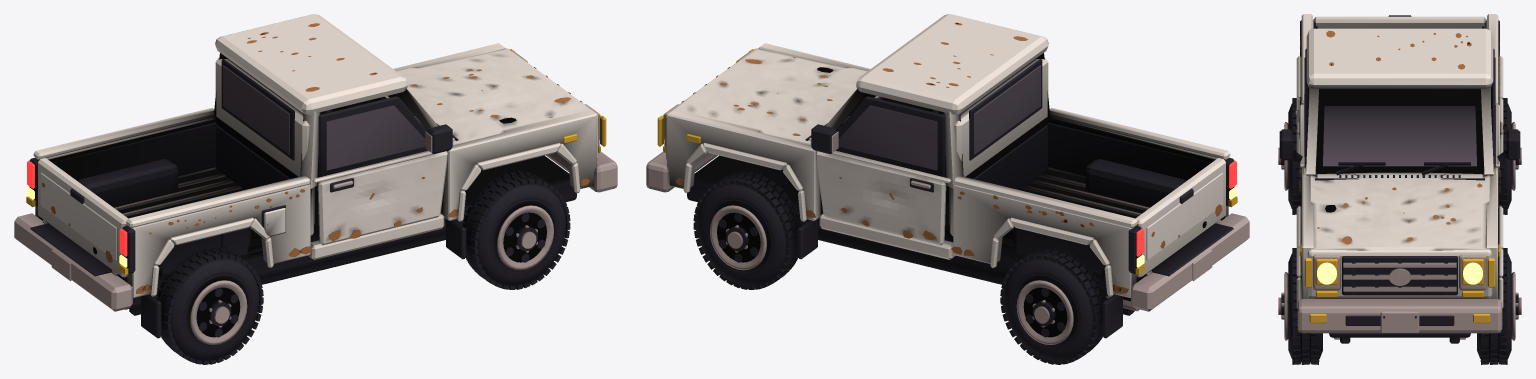
The picture shows the model from 3 angles, left to right: view 1: azimuth 30°, elevation 25°; view 2: azimuth 150°, elevation 25°; view 3: azimuth 270°, elevation 25°; orthographic projection.
Parts seen in each view (by area): view 1: body_pal_picketWhite, body_pal_uiDark, doorR_pal_picketWhite, wheelFR_pal_uiDark, wheelRR_pal_uiDark, body_pal_sidewalk, tailgate_pal_picketWhite, doorR_pal_asphalt, doorR_pal_uiDark, body_pal_asphalt, wheelRR_pal_sidewalk, wheelFR_pal_sidewalk (+1 smaller); view 2: body_pal_picketWhite, body_pal_uiDark, doorL_pal_picketWhite, wheelFL_pal_uiDark, wheelRL_pal_uiDark, body_pal_sidewalk, tailgate_pal_picketWhite, doorL_pal_asphalt, doorL_pal_uiDark, body_pal_asphalt, wheelRL_pal_sidewalk, wheelFL_pal_sidewalk (+1 smaller); view 3: body_pal_picketWhite, body_pal_uiDark, body_pal_sidewalk, body_pal_asphalt, tailgate_pal_picketWhite, wheelFL_pal_uiDark, wheelFR_pal_uiDark, wheelRL_pal_uiDark, wheelRR_pal_uiDark, doorL_pal_uiDark, doorR_pal_uiDark, lightsFront_pal_schoolBusYellow (+12 smaller).
Boxes of the visible parts, box(x1,y1,x2,y2) form: body_pal_picketWhite: box(33, 14, 597, 297); body_pal_uiDark: box(29, 58, 582, 338); doorR_pal_picketWhite: box(312, 150, 447, 245); wheelFR_pal_uiDark: box(463, 171, 570, 289); wheelRR_pal_uiDark: box(156, 248, 263, 364); body_pal_sidewalk: box(14, 51, 617, 311); tailgate_pal_picketWhite: box(38, 158, 127, 277); doorR_pal_asphalt: box(326, 105, 425, 170); doorR_pal_uiDark: box(318, 96, 452, 192); body_pal_asphalt: box(223, 65, 289, 154); wheelRR_pal_sidewalk: box(190, 280, 247, 344); wheelFR_pal_sidewalk: box(497, 205, 553, 270); body_pal_picketWhite: box(666, 14, 1230, 297); body_pal_uiDark: box(681, 58, 1234, 338); doorL_pal_picketWhite: box(816, 150, 951, 245); wheelFL_pal_uiDark: box(693, 171, 800, 289); wheelRL_pal_uiDark: box(1000, 248, 1107, 364); body_pal_sidewalk: box(646, 51, 1249, 311); tailgate_pal_picketWhite: box(1136, 158, 1225, 277); doorL_pal_asphalt: box(838, 105, 937, 170); doorL_pal_uiDark: box(811, 96, 945, 192); body_pal_asphalt: box(974, 65, 1040, 154); wheelRL_pal_sidewalk: box(1016, 280, 1073, 344); wheelFL_pal_sidewalk: box(710, 205, 766, 270); body_pal_picketWhite: box(1296, 14, 1503, 307); body_pal_uiDark: box(1299, 20, 1499, 343); body_pal_sidewalk: box(1295, 111, 1502, 339); body_pal_asphalt: box(1323, 106, 1476, 166); tailgate_pal_picketWhite: box(1313, 16, 1486, 28); wheelFL_pal_uiDark: box(1477, 248, 1518, 364); wheelFR_pal_uiDark: box(1281, 248, 1322, 364); wheelRL_pal_uiDark: box(1498, 98, 1518, 214); wheelRR_pal_uiDark: box(1281, 98, 1301, 214); doorL_pal_uiDark: box(1491, 49, 1520, 167); doorR_pal_uiDark: box(1279, 49, 1308, 167); lightsFront_pal_schoolBusYellow: box(1304, 258, 1495, 297).
Bounding box in the file's own units: 4.4 × 1.9 × 1.8.
